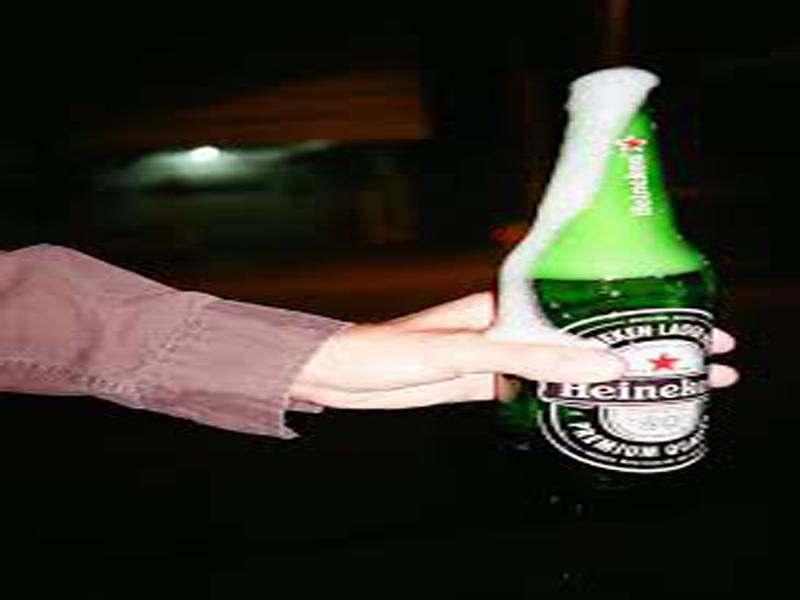Beer: (494, 87, 721, 483)
